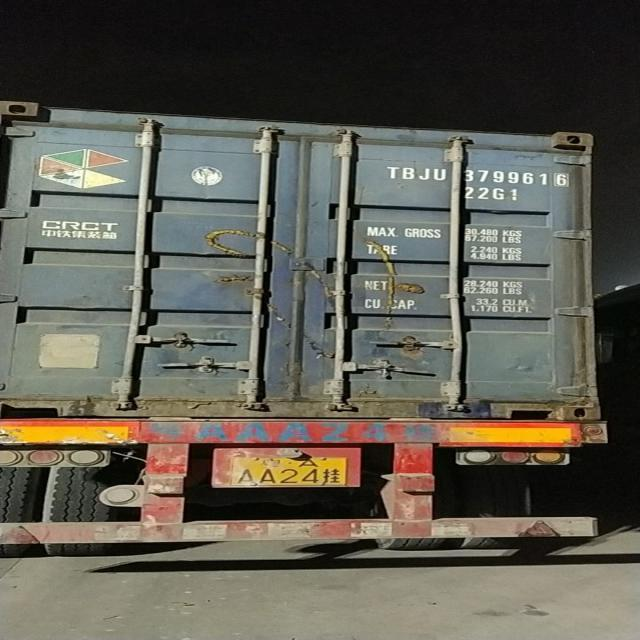ISO: (458, 188, 520, 205)
container_number: (396, 166, 562, 188)
